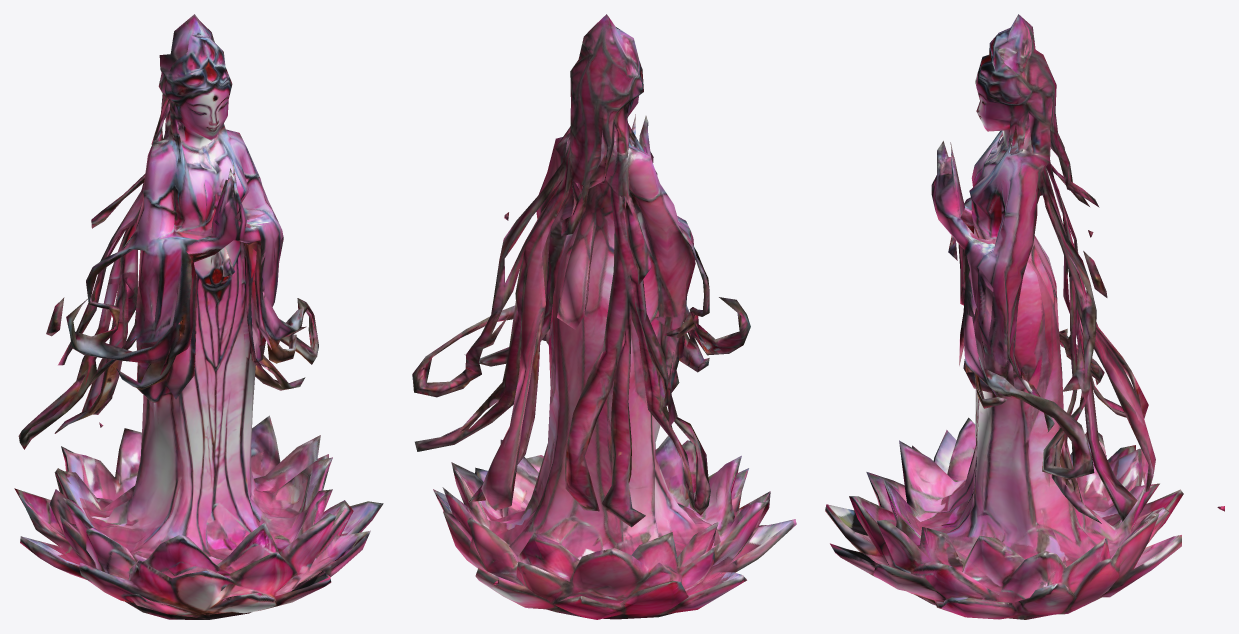
The model's file is testGoddessPinkLotusLarge.glb.
3 renders of one model, left to right at view 1: azimuth 30°, elevation 25°; view 2: azimuth 150°, elevation 25°; view 3: azimuth 270°, elevation 25°, orthographic.
Visible parts, largest first — view 1: Mesh_0; view 2: Mesh_0; view 3: Mesh_0.
Boxes of the visible parts, bbox=[...] form: Mesh_0: bbox=[14, 14, 383, 619]; Mesh_0: bbox=[412, 14, 796, 619]; Mesh_0: bbox=[825, 14, 1224, 619].
Size of the model in its own units: 5.88 by 10 by 6.45.
1 material, 1 textured.
